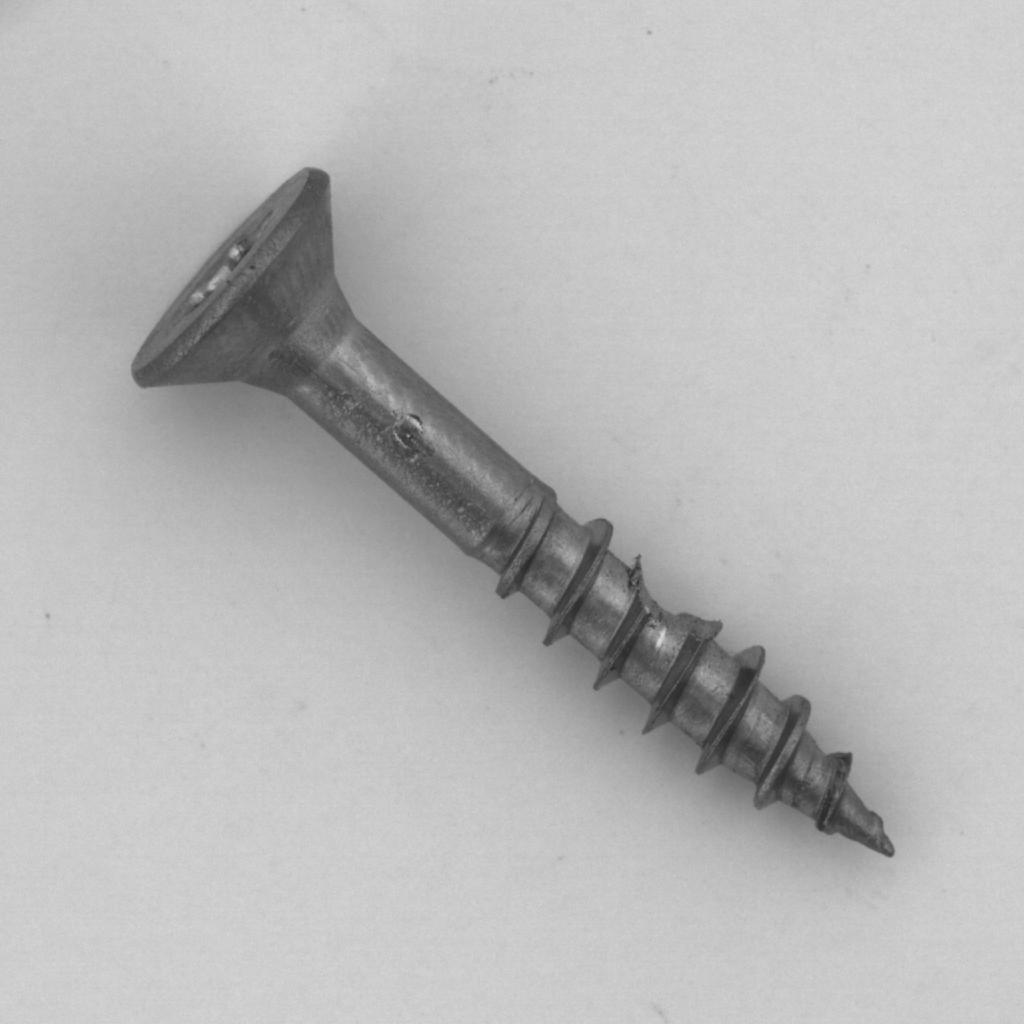scratch_neck: (88, 156, 951, 845)
